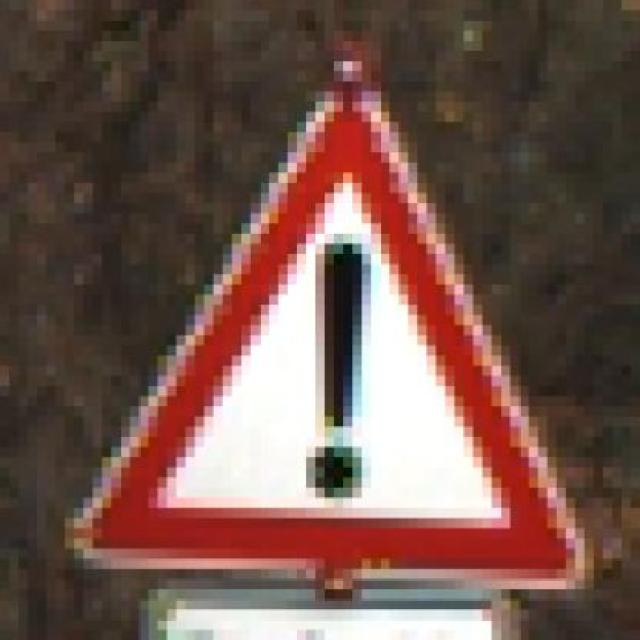Attention Please-: (56, 51, 584, 600)
